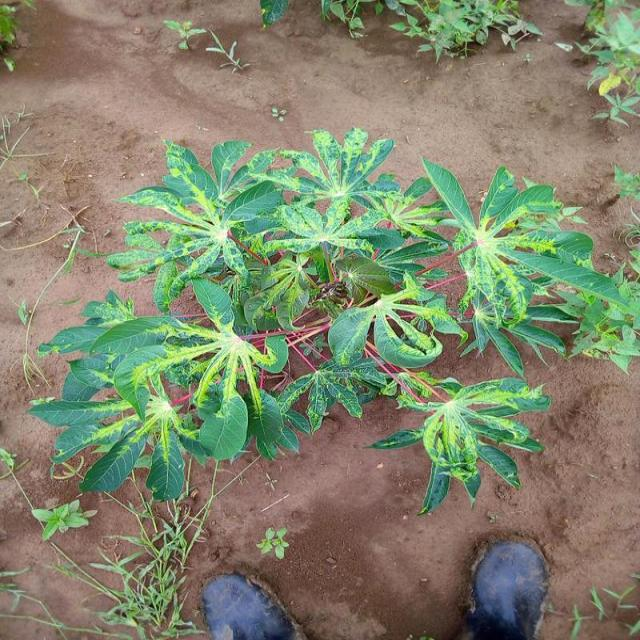cassava leaf: (25, 127, 637, 514)
